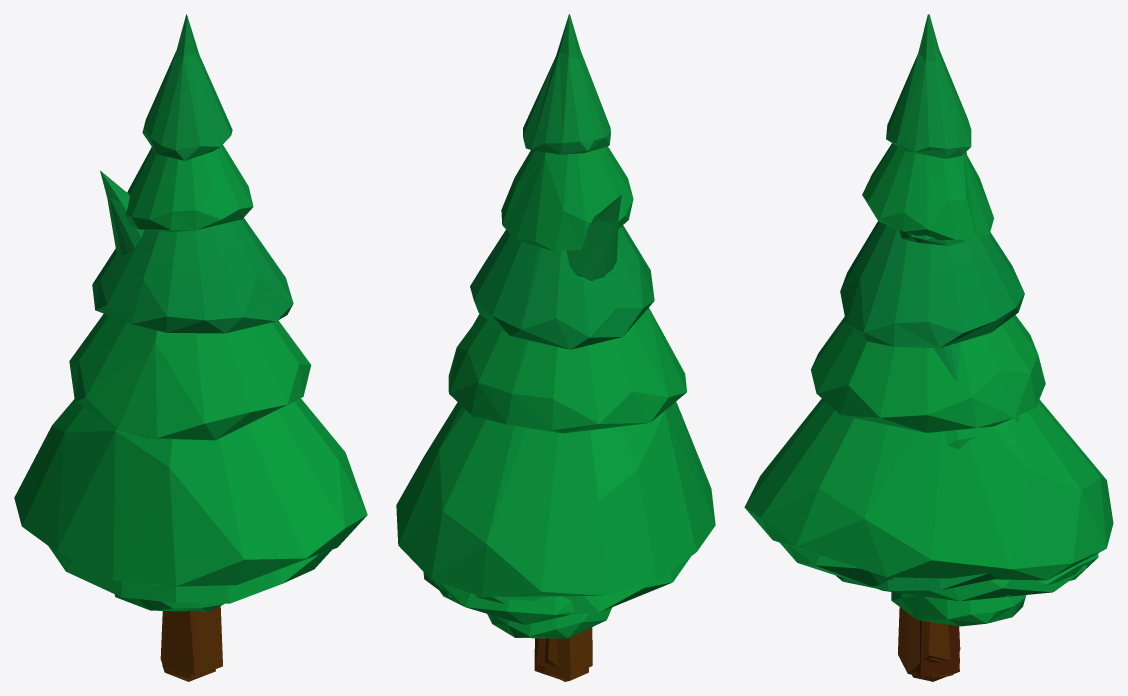
The model's file is TreesPine.fbx.
3 views of the same model, side by side, from view 1: azimuth 30°, elevation 25°; view 2: azimuth 150°, elevation 25°; view 3: azimuth 270°, elevation 25° (orthographic).
Visible parts, largest first — view 1: TreePine.001, TreePine.003, TreePine.002, TreePine.005; view 2: TreePine.001, TreePine.002, TreePine.004, TreePine.003, TreePine.005; view 3: TreePine.001, TreePine.003, TreePine.005, TreePine, TreePine.004.
Boxes of the visible parts, left/top/right/bottom form: TreePine.001: left=14, top=14, right=367, bottom=675; TreePine.003: left=48, top=546, right=331, bottom=681; TreePine.002: left=100, top=170, right=144, bottom=254; TreePine.005: left=114, top=594, right=224, bottom=611; TreePine.001: left=396, top=14, right=715, bottom=675; TreePine.002: left=545, top=194, right=621, bottom=667; TreePine.004: left=433, top=580, right=573, bottom=624; TreePine.003: left=423, top=314, right=690, bottom=681; TreePine.005: left=487, top=607, right=612, bottom=638; TreePine.001: left=744, top=14, right=1113, bottom=674; TreePine.003: left=780, top=230, right=1086, bottom=680; TreePine.005: left=891, top=592, right=1025, bottom=626; TreePine: left=836, top=416, right=1019, bottom=681; TreePine.004: left=927, top=553, right=1098, bottom=662.
Bounding box in the file's own units: 4.04 × 9.45 × 4.74.
